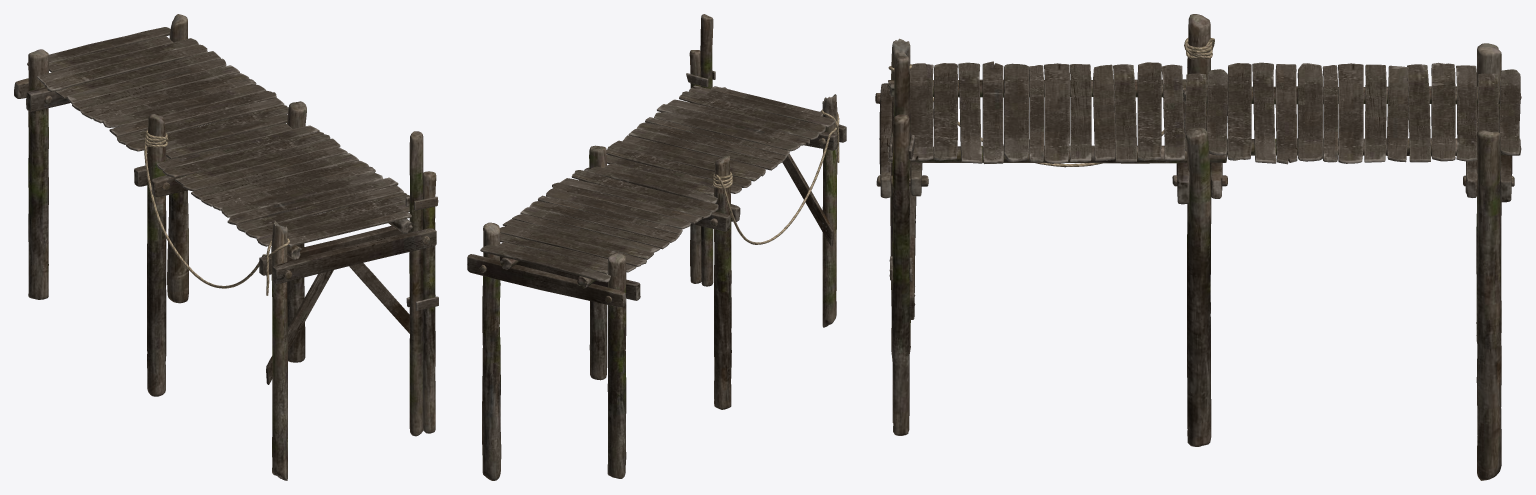
File: dock.glb
3 renders of one model, left to right at view 1: azimuth 30°, elevation 25°; view 2: azimuth 150°, elevation 25°; view 3: azimuth 270°, elevation 25°, orthographic. The views are drawn at different scales.
Visible parts, largest first — view 1: modular_wooden_pier_section_01.001, modular_wooden_pier_section_02.001; view 2: modular_wooden_pier_section_01.001, modular_wooden_pier_section_02.001; view 3: modular_wooden_pier_section_01.001, modular_wooden_pier_section_02.001.
Part boxes in pixels (x1,y1,x2,y2): modular_wooden_pier_section_01.001: (134,101,438,480); modular_wooden_pier_section_02.001: (14,14,288,303); modular_wooden_pier_section_01.001: (579,14,846,409); modular_wooden_pier_section_02.001: (467,170,718,480); modular_wooden_pier_section_01.001: (875,14,1227,446); modular_wooden_pier_section_02.001: (1183,43,1521,480).
Bounding box in the file's own units: 2.54 × 4.64 × 6.45.
2 materials, 2 textured.
